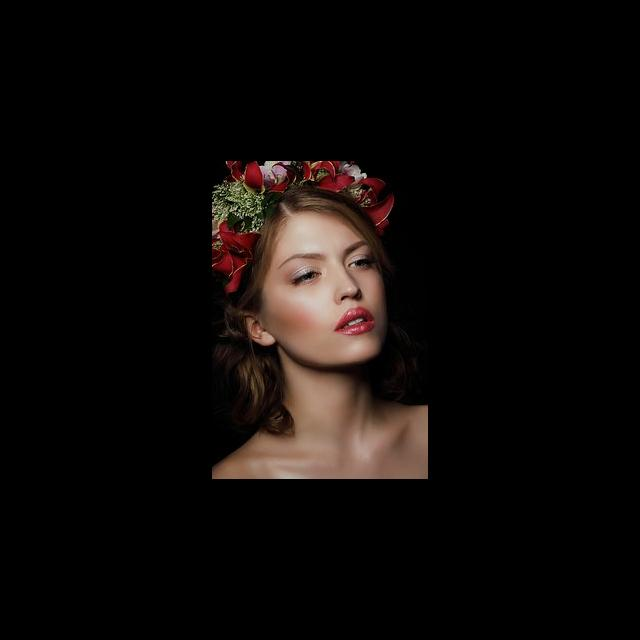female: (212, 161, 418, 384)
